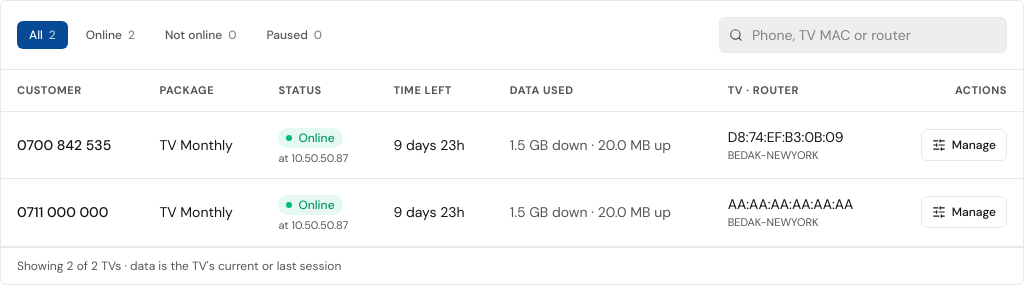
Test: TV customers tab › finds a TV by its MAC typed without colons
Type "d874ef" into the field named "Search TV customers" at (863, 35), box [719,17,1007,53]
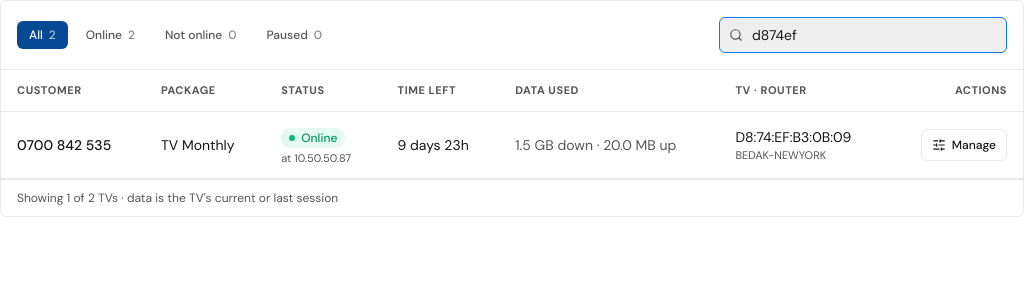
Check: the text "Showing 1 of 2 TVs" is shown, box [1,179,1023,216]
